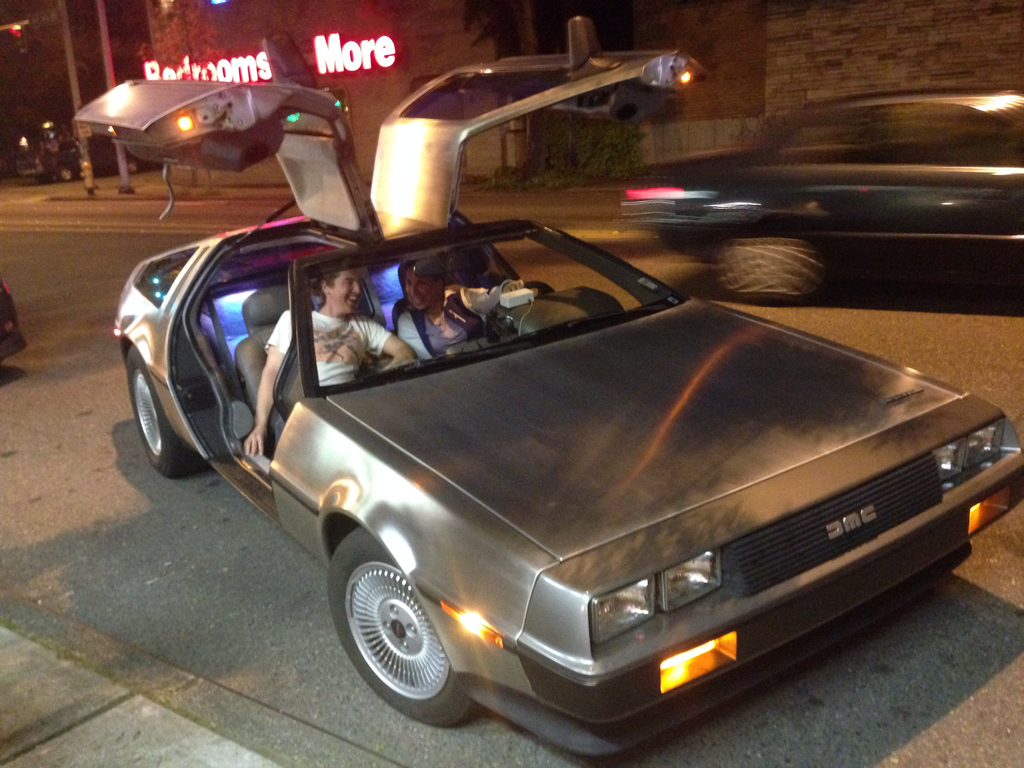person: (242, 262, 421, 456)
